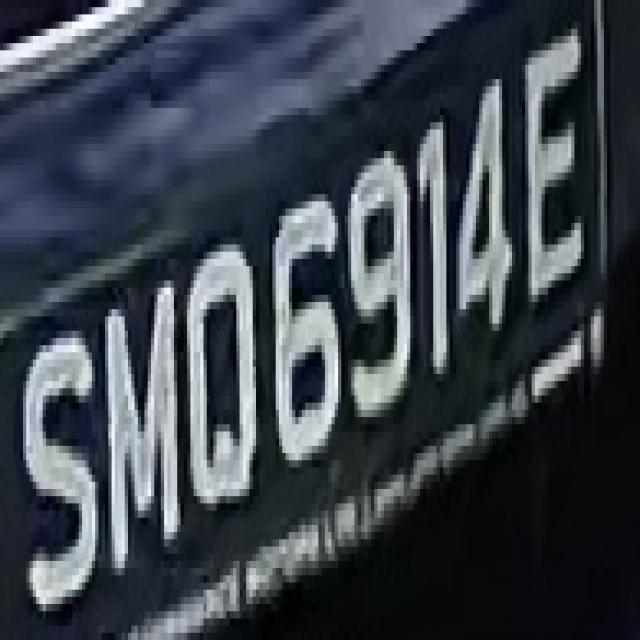1: (410, 87, 456, 396)
4: (440, 64, 515, 360)
5: (266, 180, 344, 467)
9: (335, 122, 417, 432)
E: (518, 29, 598, 324)
M: (105, 252, 190, 597)
Q: (177, 230, 263, 547)
S: (23, 302, 108, 633)
